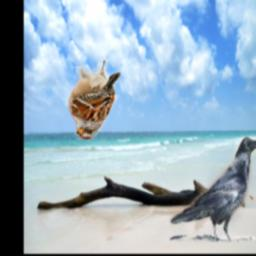Crow: (170, 136, 256, 242)
Sparrow: (67, 59, 120, 139)
